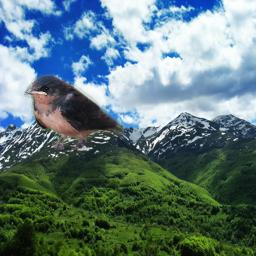Swallow: (24, 74, 124, 150)
